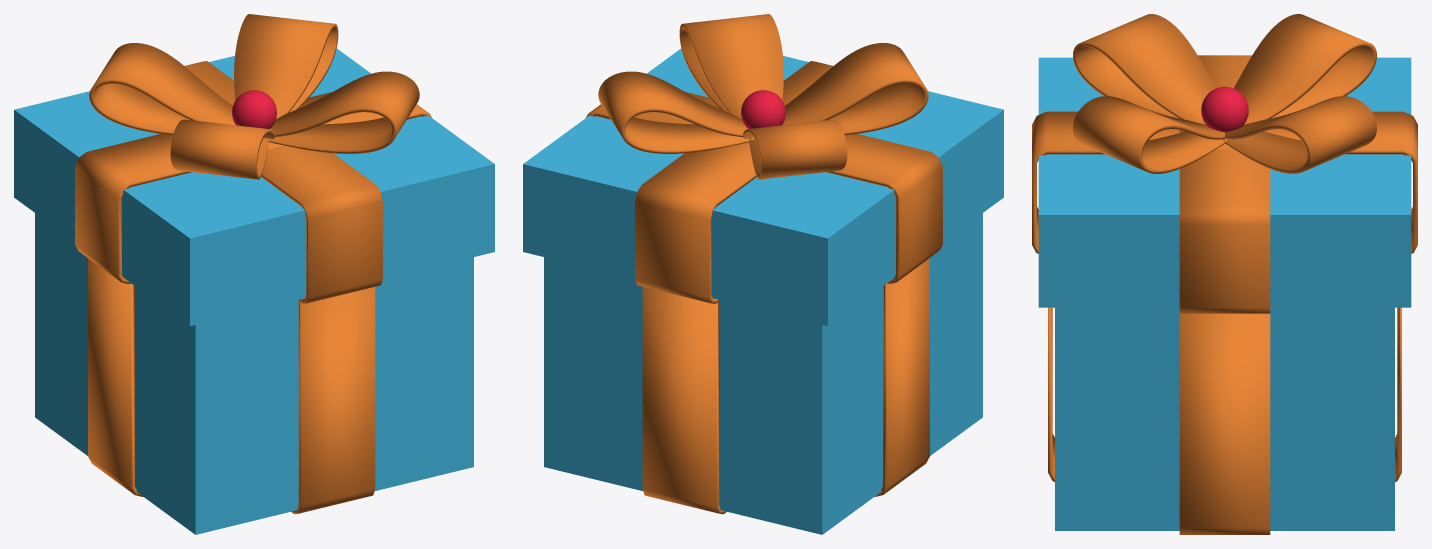
The model's file is medium1.fbx.
The picture shows the model from 3 angles, left to right: view 1: azimuth 30°, elevation 25°; view 2: azimuth 150°, elevation 25°; view 3: azimuth 270°, elevation 25°; orthographic projection. The views are drawn at different scales.
Visible parts, largest first — view 1: Cube, Cube.001, NURBSパス, 球; view 2: Cube, Cube.001, NURBSパス, 球; view 3: Cube, Cube.001, NURBSパス, 球.
Part boxes in pixels (x1=…): Cube: x1=14, y1=48, x2=494, y2=534; Cube.001: x1=75, y1=61, x2=431, y2=514; NURBSパス: x1=89, y1=14, x2=419, y2=179; 球: x1=232, y1=90, x2=276, y2=128; Cube: x1=523, y1=48, x2=1003, y2=534; Cube.001: x1=586, y1=61, x2=942, y2=514; NURBSパス: x1=598, y1=14, x2=928, y2=179; 球: x1=741, y1=90, x2=785, y2=128; Cube: x1=1038, y1=57, x2=1411, y2=530; Cube.001: x1=1032, y1=55, x2=1417, y2=534; NURBSパス: x1=1073, y1=14, x2=1376, y2=173; 球: x1=1201, y1=86, x2=1248, y2=132.
Size of the model in its own units: 63.46 by 71.64 by 63.46.
